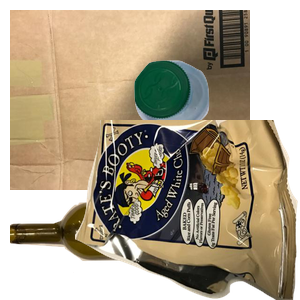cardboard: (10, 10, 250, 190)
glass: (10, 189, 250, 300)
plastic: (132, 58, 300, 182)
trash: (75, 120, 300, 300)
